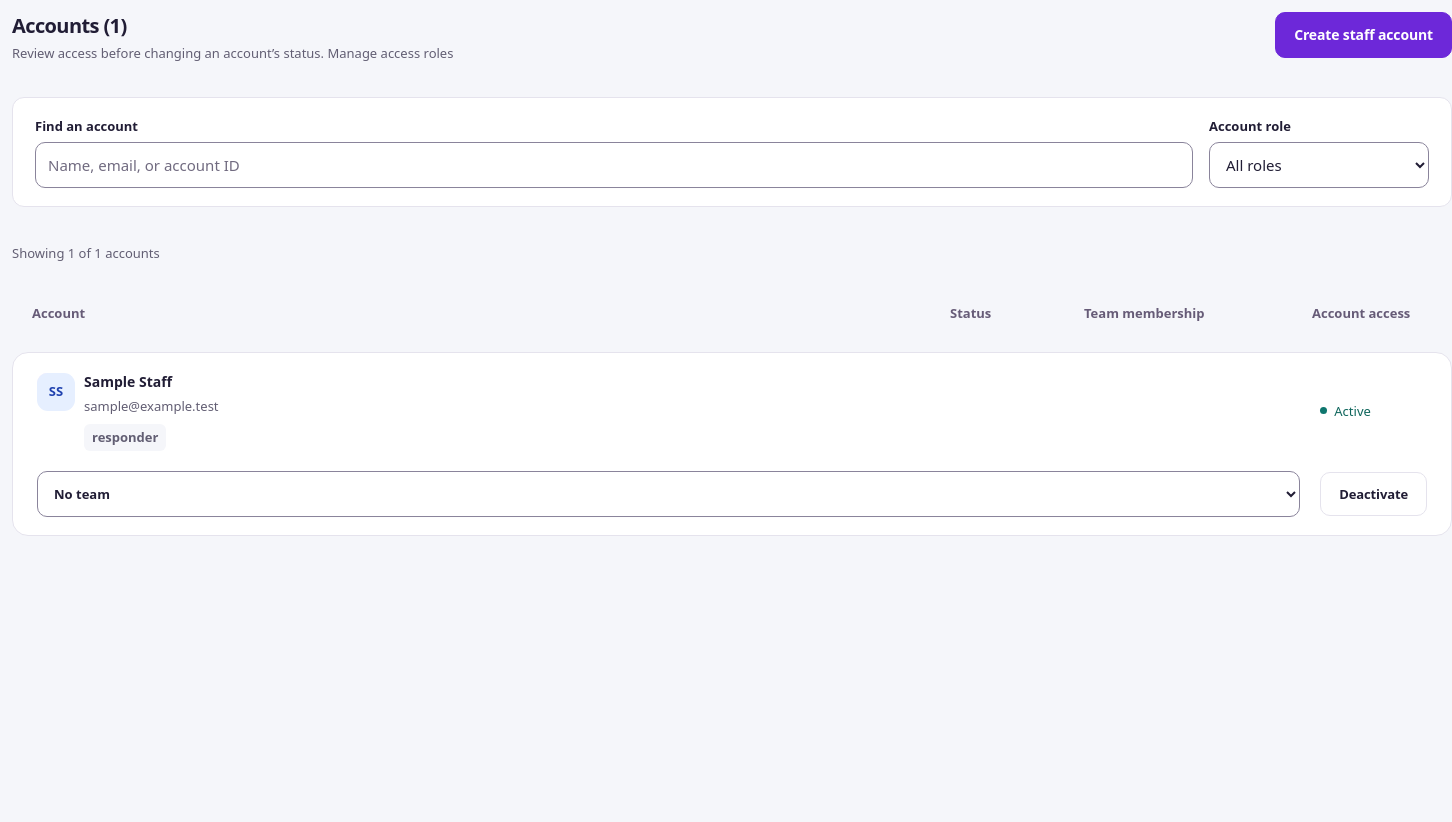
Scenario: user-status preserves focus and blocks repeats during a failed save
Check: the text "Sample Staff" is shown, box x1=84 y1=372 x2=172 y2=391
Click the button with aria-label "Deactivate Sample Staff".
click(1374, 494)  # box x1=1320 y1=472 x2=1427 y2=516
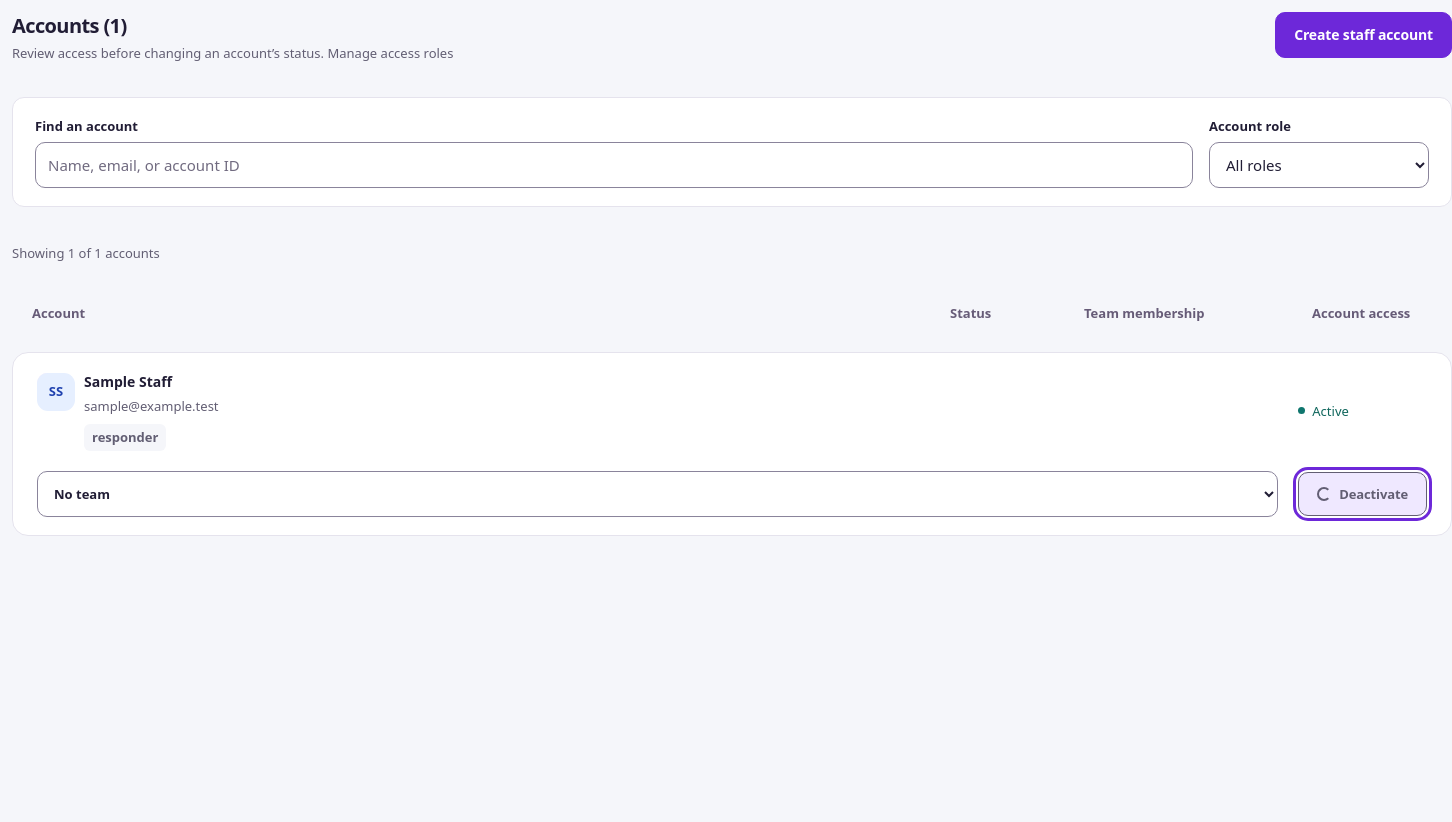
Check: the button with aria-label "Deactivate Sample Staff" is enabled, box x1=1298 y1=472 x2=1427 y2=516
Press Enter Enter
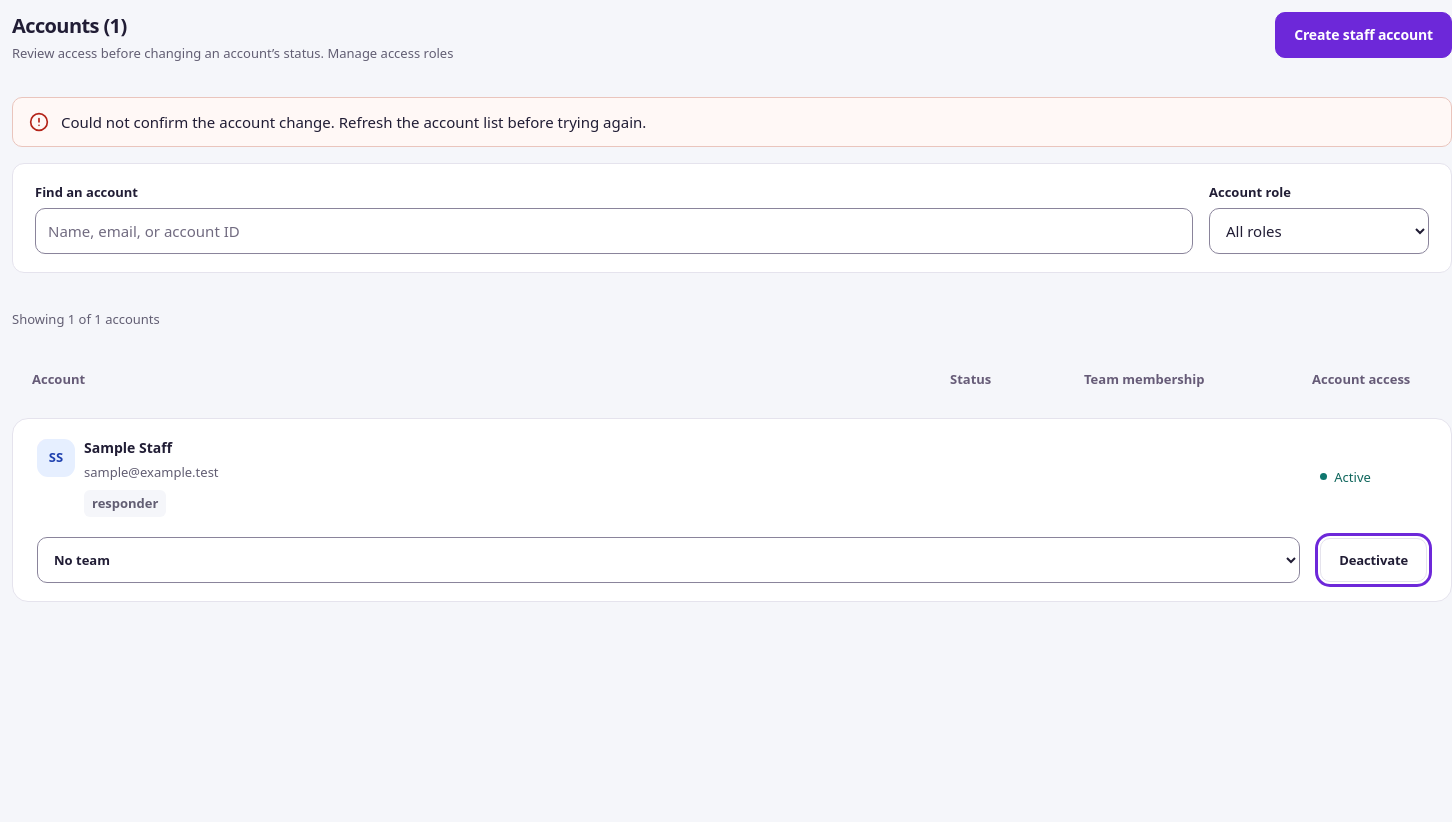
Check: the 1st message is shown, box x1=12 y1=97 x2=1451 y2=147
